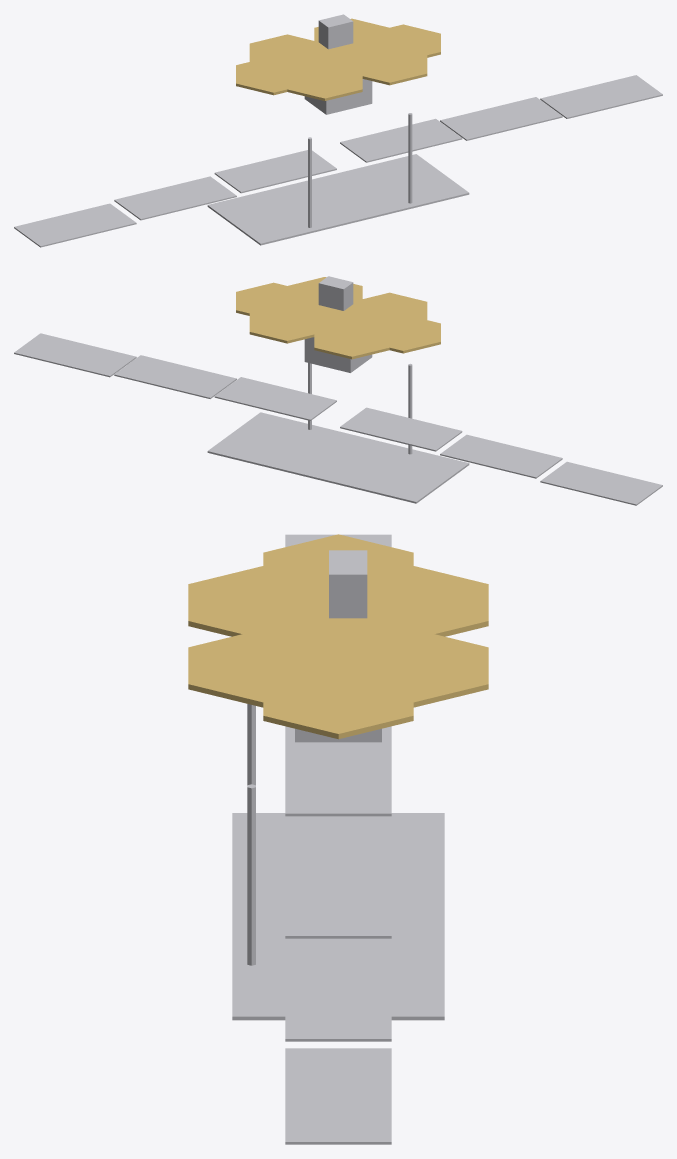
The model's file is solar-l2-observatory.gltf.
3 renders of one model, top to bottom at view 1: azimuth 30°, elevation 25°; view 2: azimuth 150°, elevation 25°; view 3: azimuth 270°, elevation 25°, orthographic. The views are drawn at different scales.
Visible parts, largest first — view 1: solar-l2-observatory, gold; view 2: solar-l2-observatory, gold; view 3: solar-l2-observatory, gold.
Boxes of the visible parts, x1=… form: solar-l2-observatory: x1=14, y1=14, x2=662, y2=247; gold: x1=236, y1=18, x2=440, y2=100; solar-l2-observatory: x1=14, y1=276, x2=662, y2=505; gold: x1=236, y1=277, x2=440, y2=359; solar-l2-observatory: x1=232, y1=534, x2=444, y2=1144; gold: x1=188, y1=534, x2=488, y2=739.
Size of the model in its own units: 14.9 by 4.1 by 3.12.
